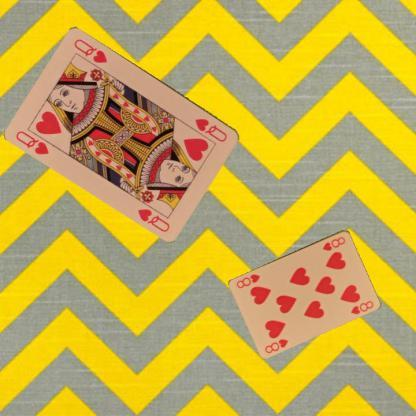8h: (262, 336, 290, 354), (320, 234, 347, 252)
Qh: (13, 128, 51, 156), (192, 116, 228, 144)
